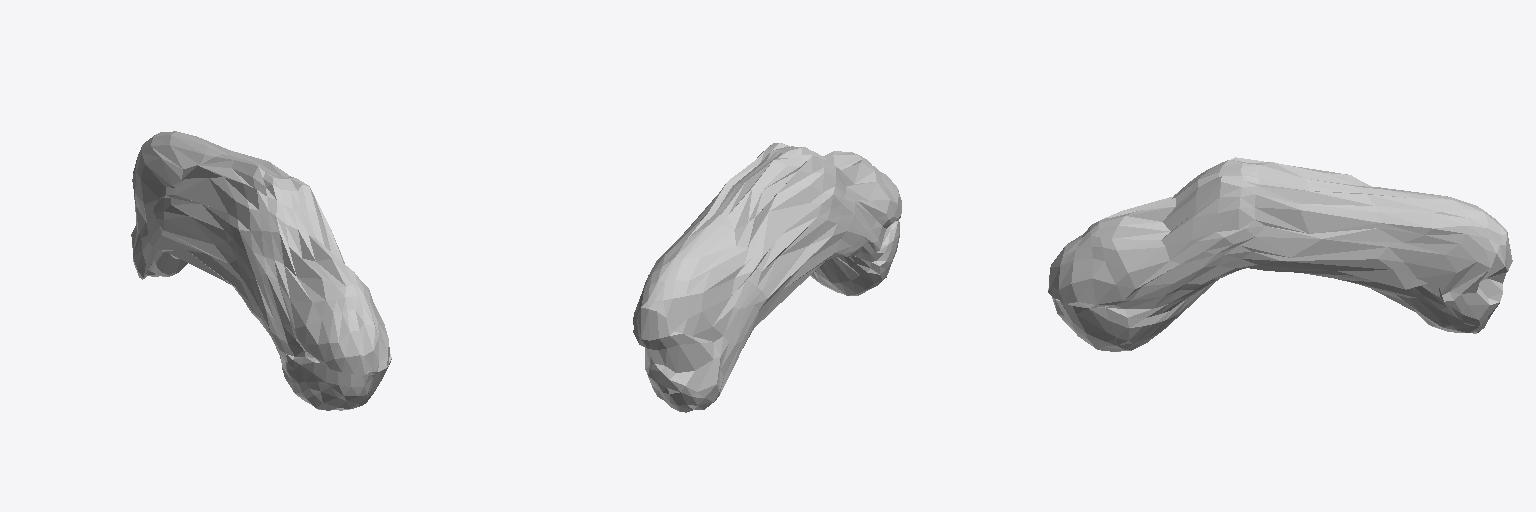
File: brock.obj
The picture shows the model from 3 angles: view 1: azimuth 30°, elevation 25°; view 2: azimuth 150°, elevation 25°; view 3: azimuth 270°, elevation 25°; orthographic projection.
Parts seen in each view (by area): view 1: Icosphere; view 2: Icosphere; view 3: Icosphere.
Part boxes in pixels (x1,y1,x2,y2): Icosphere: (131,131,391,410); Icosphere: (633,143,901,412); Icosphere: (1048,157,1512,351).
Bounding box in the file's own units: 1.99 × 3.86 × 8.75.